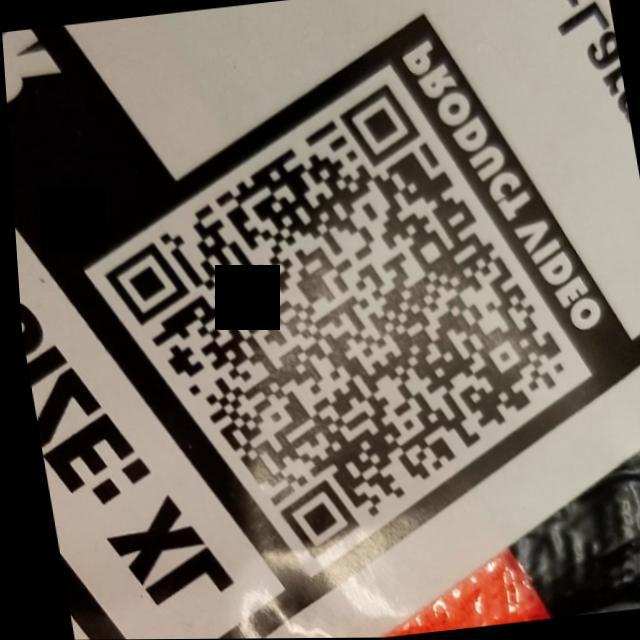QR_CODE: (60, 60, 604, 593)
